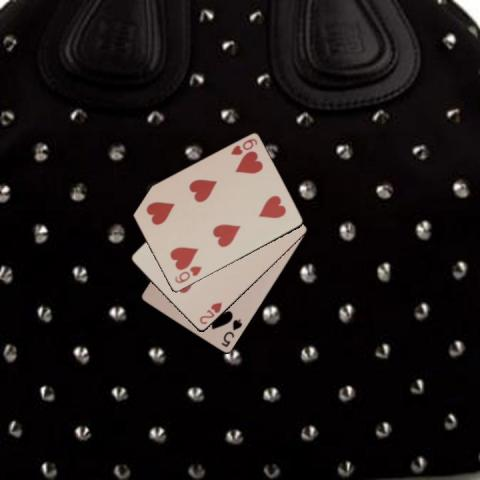2h: (196, 299, 223, 326)
5s: (218, 316, 243, 349)
6h: (172, 264, 204, 286), (227, 136, 259, 157)
